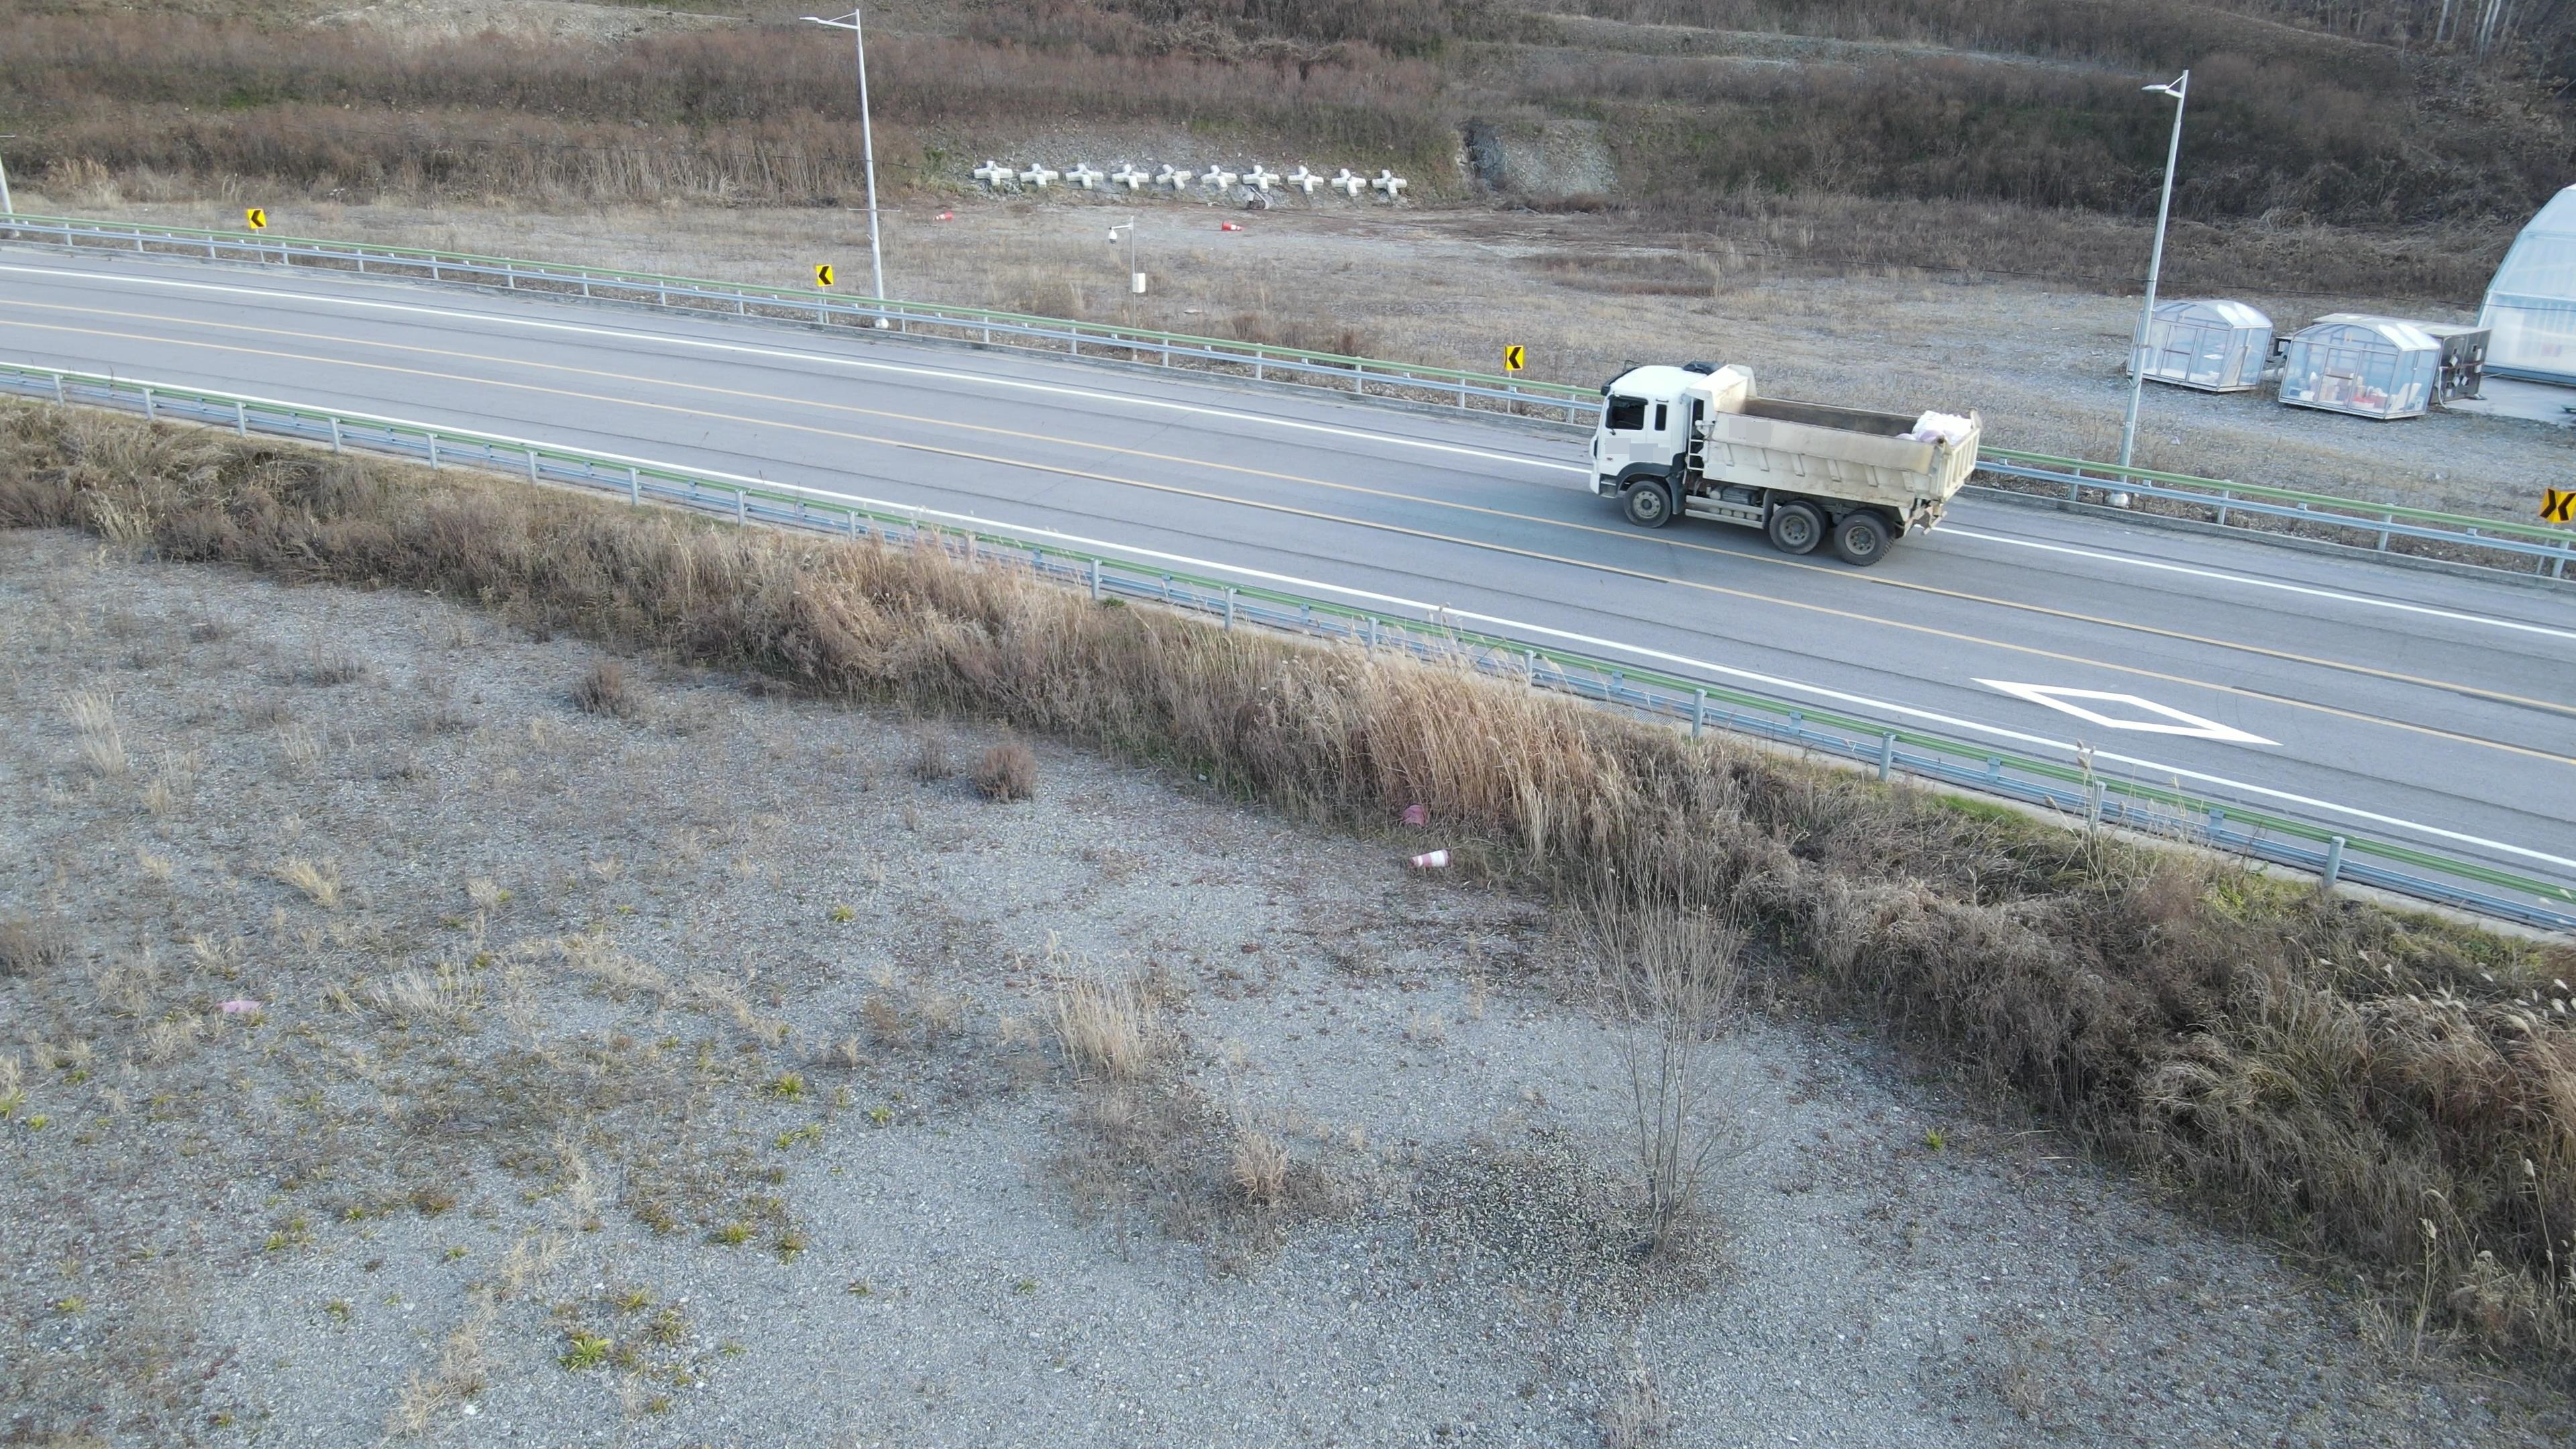불법차량: (1587, 361, 1983, 566)
